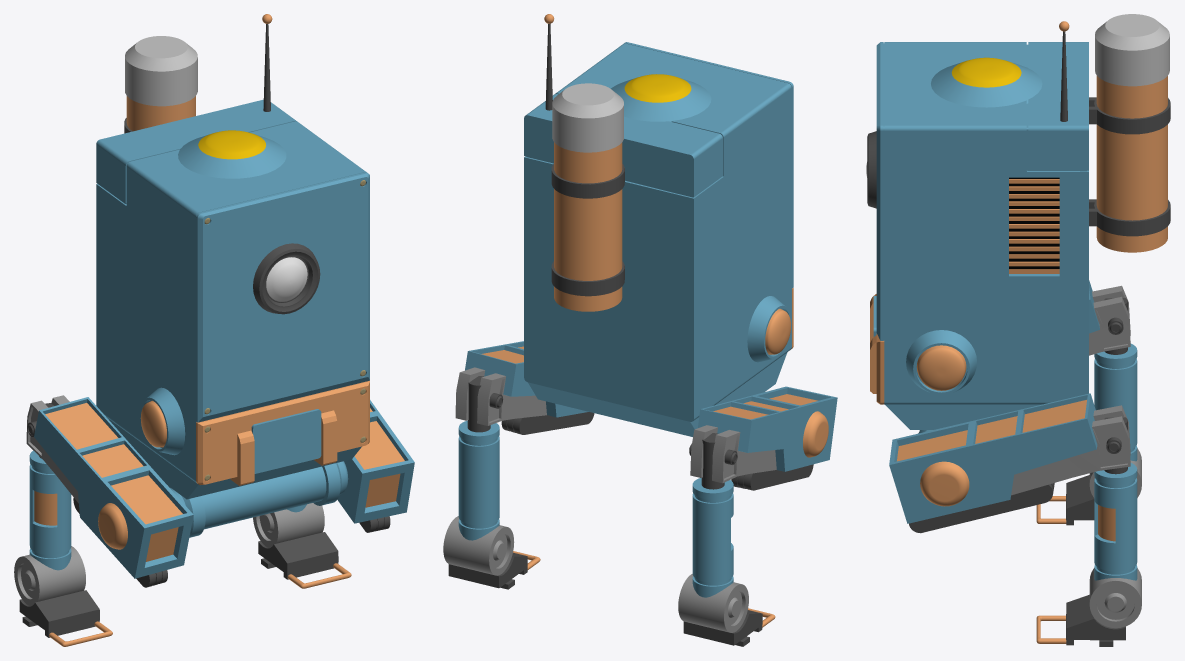
The model's file is Robot.fbx.
The picture shows the model from 3 angles, left to right: view 1: azimuth 30°, elevation 25°; view 2: azimuth 150°, elevation 25°; view 3: azimuth 270°, elevation 25°; orthographic projection. The views are drawn at different scales.
Parts seen in each view (by area): view 1: Cube, Cube.001, Cylinder.014, Cylinder.016, Cube.002, Cylinder.006, Cylinder.005, Cylinder.013, Cylinder.009, Cylinder.020, Cube.004, Cylinder.011 (+11 smaller); view 2: Cube, Cylinder.020, Cylinder.007, Cylinder.014, Cylinder.017, Cylinder.013, Cylinder.006, Cylinder.009, Cylinder.008, Cylinder.011, Cylinder.012, Cylinder.004 (+5 smaller); view 3: Cube, Cylinder.014, Cylinder.007, Cylinder.020, Cylinder.017, Cylinder.006, Cylinder.009, Cube.006, Cylinder.016, Cylinder.008, Cylinder.013, Cylinder.011 (+13 smaller).
Boxes of the visible parts, x1,y1,x2,y2 form: Cube: (96, 99, 366, 499); Cube.001: (196, 172, 369, 422); Cylinder.014: (34, 397, 414, 578); Cylinder.016: (45, 403, 404, 561); Cube.002: (196, 381, 369, 484); Cylinder.006: (19, 497, 390, 637); Cylinder.005: (168, 461, 348, 537); Cylinder.013: (14, 503, 324, 606); Cylinder.009: (125, 36, 197, 106); Cylinder.020: (29, 450, 306, 570); Cube.004: (251, 409, 321, 473); Cylinder.011: (178, 134, 286, 178); Cube: (524, 43, 791, 436); Cylinder.020: (458, 420, 733, 597); Cylinder.007: (554, 142, 622, 311); Cylinder.014: (465, 341, 837, 471); Cylinder.017: (455, 367, 776, 483); Cylinder.013: (443, 516, 748, 632); Cylinder.006: (448, 412, 813, 646); Cylinder.009: (552, 83, 623, 152); Cylinder.008: (551, 164, 624, 296); Cylinder.011: (611, 78, 711, 121); Cylinder.012: (624, 74, 691, 102); Cylinder.004: (747, 296, 791, 362); Cube: (884, 42, 1088, 429); Cylinder.014: (889, 280, 1099, 523); Cylinder.007: (1096, 75, 1167, 252); Cylinder.020: (1094, 343, 1137, 580); Cylinder.017: (1011, 285, 1130, 495); Cylinder.006: (909, 475, 1125, 646); Cylinder.009: (1095, 14, 1169, 86); Cube.006: (1009, 179, 1059, 273); Cylinder.016: (897, 400, 1086, 461); Cylinder.008: (1089, 97, 1170, 236); Cylinder.013: (1089, 448, 1141, 628); Cylinder.011: (931, 62, 1042, 107).
Bounding box in the file's own units: 344 × 633 × 297.
